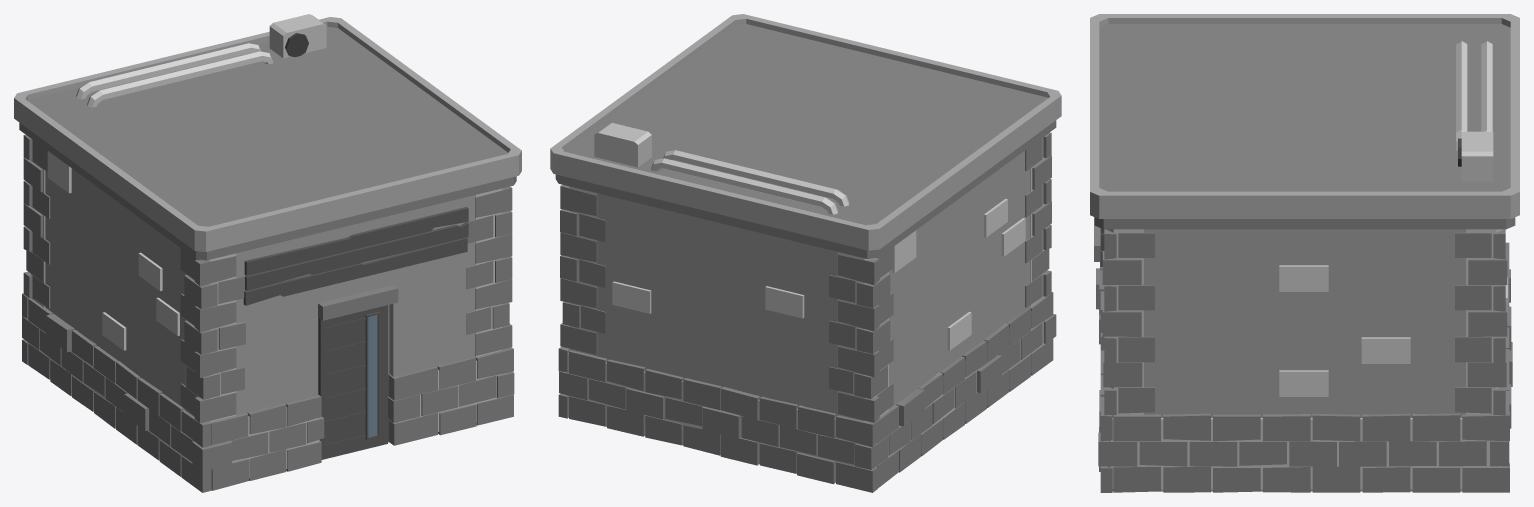
The model's file is qtb_1story_sign.fbx.
The picture shows the model from 3 angles, left to right: view 1: azimuth 30°, elevation 25°; view 2: azimuth 150°, elevation 25°; view 3: azimuth 270°, elevation 25°; orthographic projection. The views are drawn at different scales.
Parts seen in each view (by area): view 1: qtb_1story_sign_LOD0; view 2: qtb_1story_sign_LOD0; view 3: qtb_1story_sign_LOD0.
Boxes of the visible parts, x1,y1,x2,y2 form: qtb_1story_sign_LOD0: (14, 14, 521, 492); qtb_1story_sign_LOD0: (550, 14, 1061, 492); qtb_1story_sign_LOD0: (1090, 14, 1519, 492).
Size of what is drawn, in the model's own units: 5.82 by 4.84 by 5.82.
